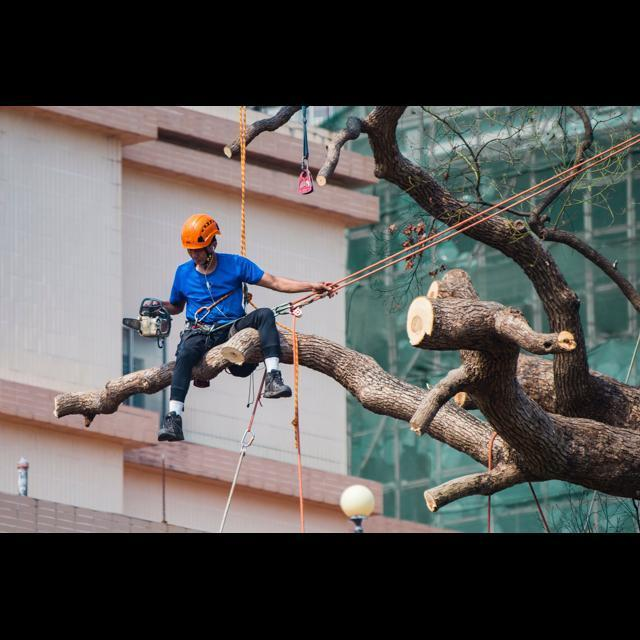helmet: (175, 204, 228, 255)
